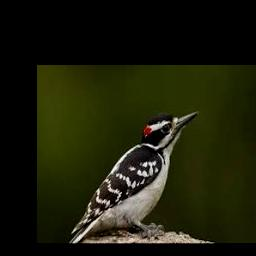Woodpecker: (68, 110, 198, 243)
